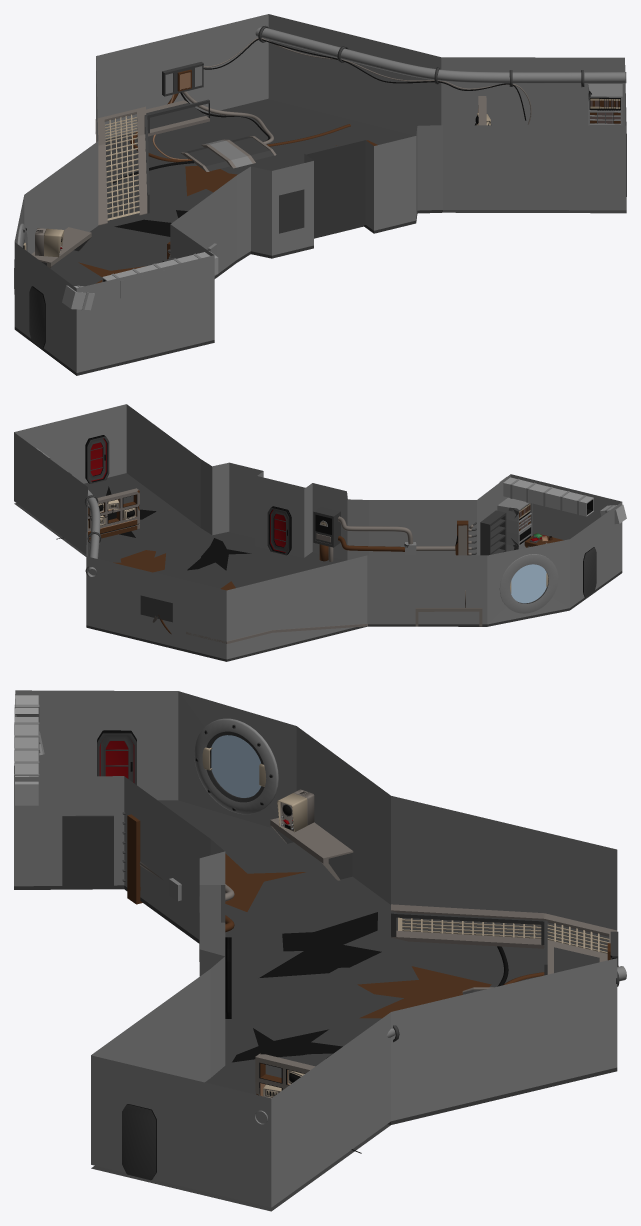
File: Room.glb
3 views of the same model, one above another, from view 1: azimuth 30°, elevation 25°; view 2: azimuth 150°, elevation 25°; view 3: azimuth 270°, elevation 25° (orthographic). The views are drawn at different scales.
Parts seen in each view (by area): view 1: Cube.021, Cube.070, NurbsPath.044, Cube.177, Cube.154, Cube.152, Cube.187, Cube.165, Cube.170, Cube.190, Cube.160, Osciloskop (+2 smaller); view 2: Cube.021, Window, Cube.177, hneda, Cube.150, Cube.148, Cube.166, Cube.215, Cube.187, Cube.170, NurbsPath.044, Cube.165 (+5 smaller); view 3: Cube.021, Cube.070, Window, Cube.215, Cube.177, Cube.166, Cube.190, Cube.165, Osciloskop, hneda, Cube.189.
Part boxes in pixels (left/top/right/bottom): Cube.021: left=14, top=14, right=626, bottom=375; Cube.070: left=95, top=99, right=209, bottom=225; NurbsPath.044: left=255, top=27, right=626, bottom=83; Cube.177: left=62, top=251, right=218, bottom=310; Cube.154: left=588, top=84, right=622, bottom=125; Cube.152: left=181, top=136, right=276, bottom=171; Cube.187: left=279, top=189, right=304, bottom=233; Cube.165: left=29, top=286, right=45, bottom=348; Cube.170: left=162, top=62, right=203, bottom=96; Cube.190: left=31, top=227, right=91, bottom=268; Cube.160: left=201, top=139, right=255, bottom=168; Osciloskop: left=35, top=228, right=64, bottom=257; Cube.021: left=14, top=404, right=622, bottom=661; Window: left=499, top=554, right=558, bottom=613; Cube.177: left=499, top=477, right=626, bottom=524; hneda: left=70, top=488, right=139, bottom=545; Cube.150: left=497, top=497, right=532, bottom=551; Cube.148: left=267, top=506, right=291, bottom=555; Cube.166: left=85, top=435, right=109, bottom=483; Cube.215: left=480, top=510, right=506, bottom=555; Cube.187: left=313, top=506, right=340, bottom=547; Cube.170: left=140, top=595, right=172, bottom=622; NurbsPath.044: left=85, top=490, right=100, bottom=576; Cube.165: left=583, top=547, right=596, bottom=597; Cube.021: left=14, top=690, right=617, bottom=1211; Cube.070: left=391, top=904, right=617, bottom=975; Window: left=194, top=718, right=278, bottom=814; Cube.215: left=62, top=815, right=113, bottom=887; Cube.177: left=14, top=694, right=44, bottom=805; Cube.166: left=122, top=1104, right=156, bottom=1180; Cube.190: left=270, top=818, right=353, bottom=880; Cube.165: left=97, top=730, right=136, bottom=784; Osciloskop: left=277, top=789, right=314, bottom=832; hneda: left=255, top=1053, right=365, bottom=1142; Cube.189: left=127, top=814, right=142, bottom=904.
Bounding box in the file's own units: 32.91 × 5.38 × 20.72.
